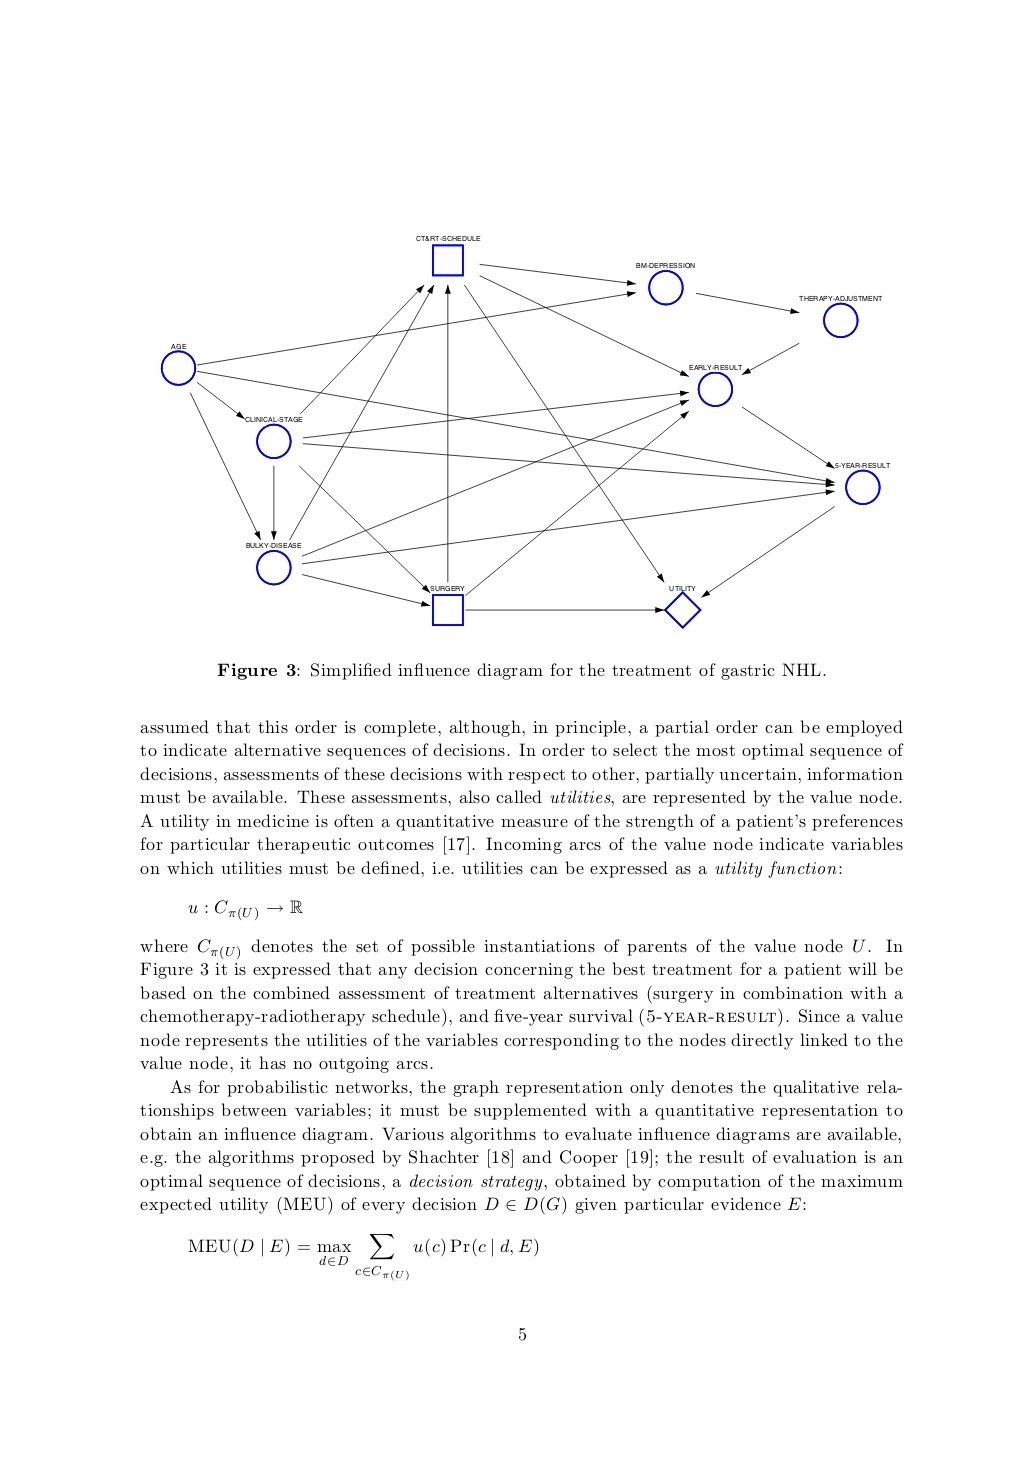figure: (161, 234, 890, 629)
formula: (187, 1231, 538, 1281), (187, 898, 302, 921)
